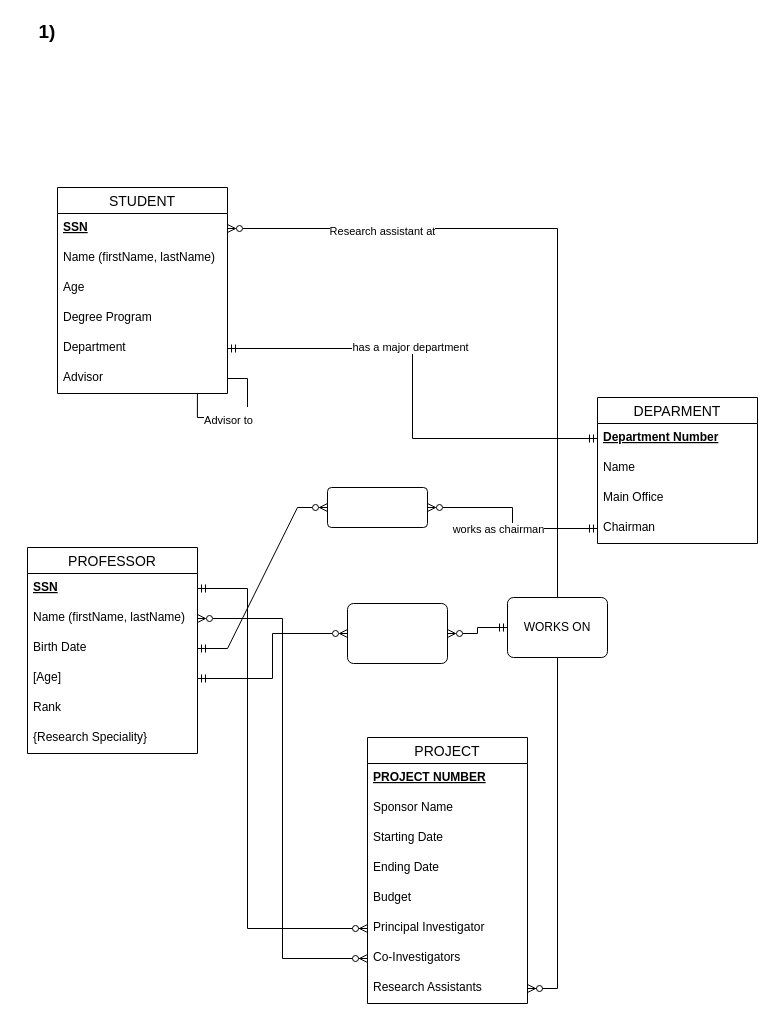
Some shapes in this 775 by 1023 pixel diagram are drawn without their labels. Here are the shapes that lost their labels. From the top down, the centre of each, then its label:
At (x=377, y=507): "WORKS Time Percentage".
At (x=397, y=633): "SUPERVISES".
